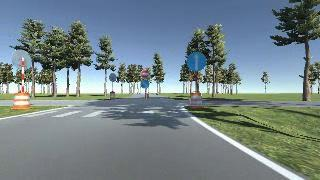go_ahead: (185, 52, 206, 70)
